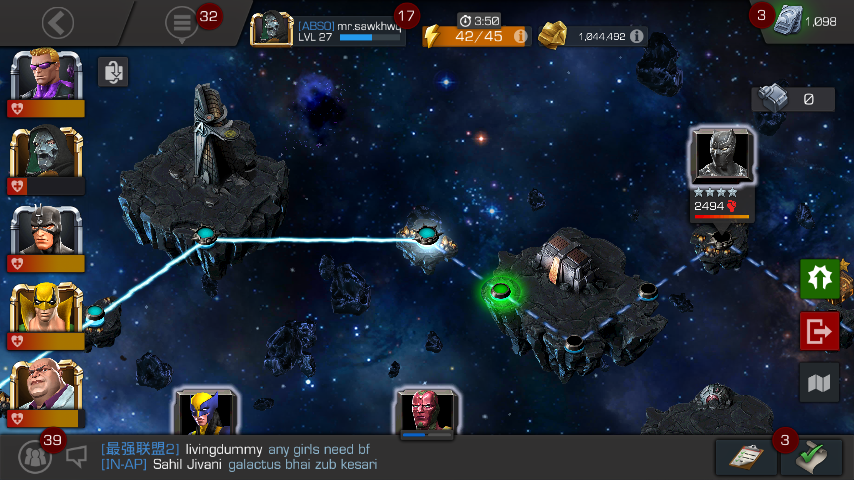green: (491, 283, 511, 299)
